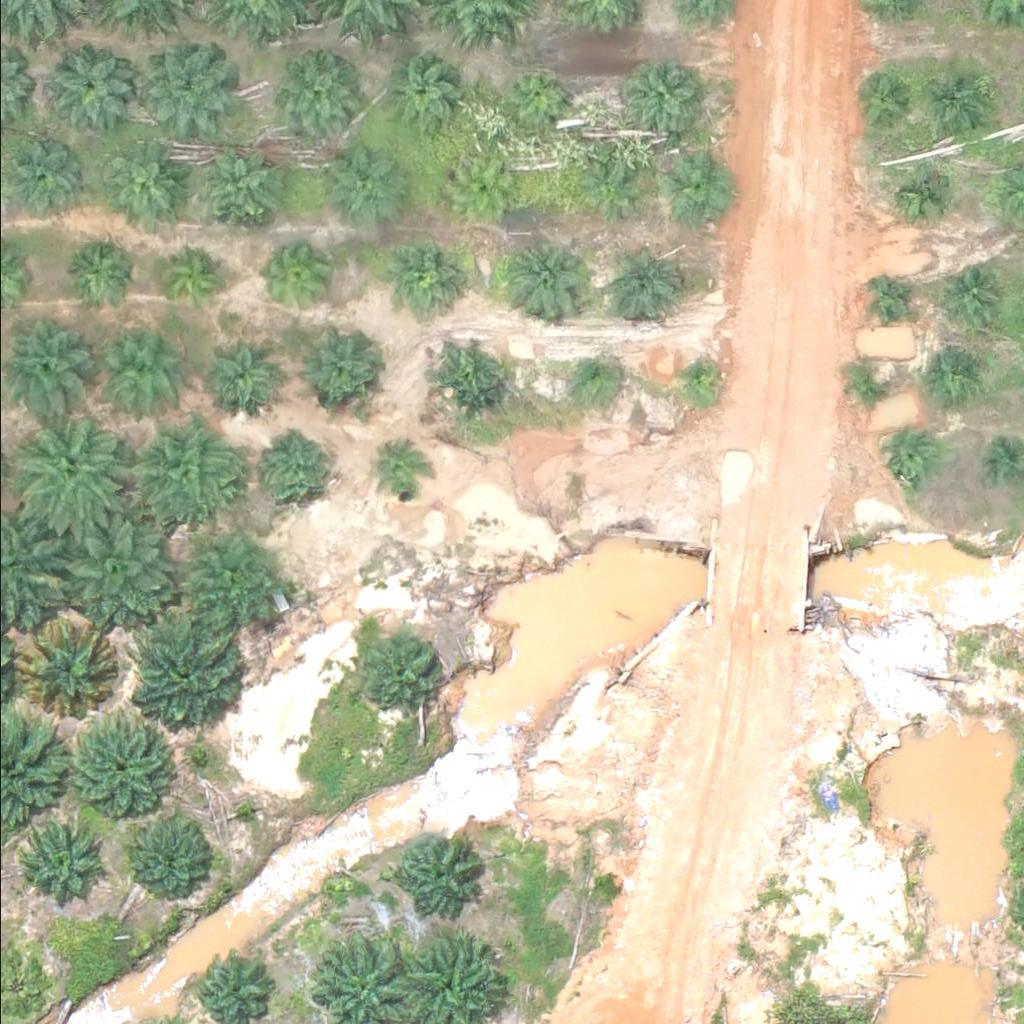Kelapa_Sawit: (11, 408, 137, 533), (126, 611, 252, 736), (47, 500, 172, 625), (10, 613, 123, 726), (175, 525, 289, 637), (59, 714, 173, 826), (124, 415, 237, 527), (81, 314, 181, 414), (288, 328, 376, 416), (95, 140, 183, 228), (138, 46, 226, 134), (49, 43, 137, 131), (390, 831, 478, 919), (268, 52, 357, 139), (191, 332, 279, 419), (349, 630, 437, 717), (3, 323, 91, 410), (187, 139, 275, 226), (616, 55, 704, 142), (20, 823, 108, 910), (125, 818, 213, 905), (606, 245, 682, 320), (425, 336, 501, 411), (61, 234, 137, 309), (149, 240, 225, 315), (262, 438, 338, 513), (509, 245, 585, 320), (383, 53, 458, 128), (319, 150, 394, 225), (392, 237, 467, 312), (259, 243, 334, 318), (850, 69, 913, 132), (669, 158, 732, 221), (923, 349, 986, 412), (938, 263, 1001, 326), (447, 154, 510, 217), (928, 73, 991, 135), (573, 164, 636, 226), (888, 164, 951, 226), (366, 443, 429, 505), (508, 63, 570, 125), (865, 276, 916, 326), (844, 362, 895, 412), (879, 433, 929, 483), (671, 355, 721, 405), (564, 351, 614, 401)
